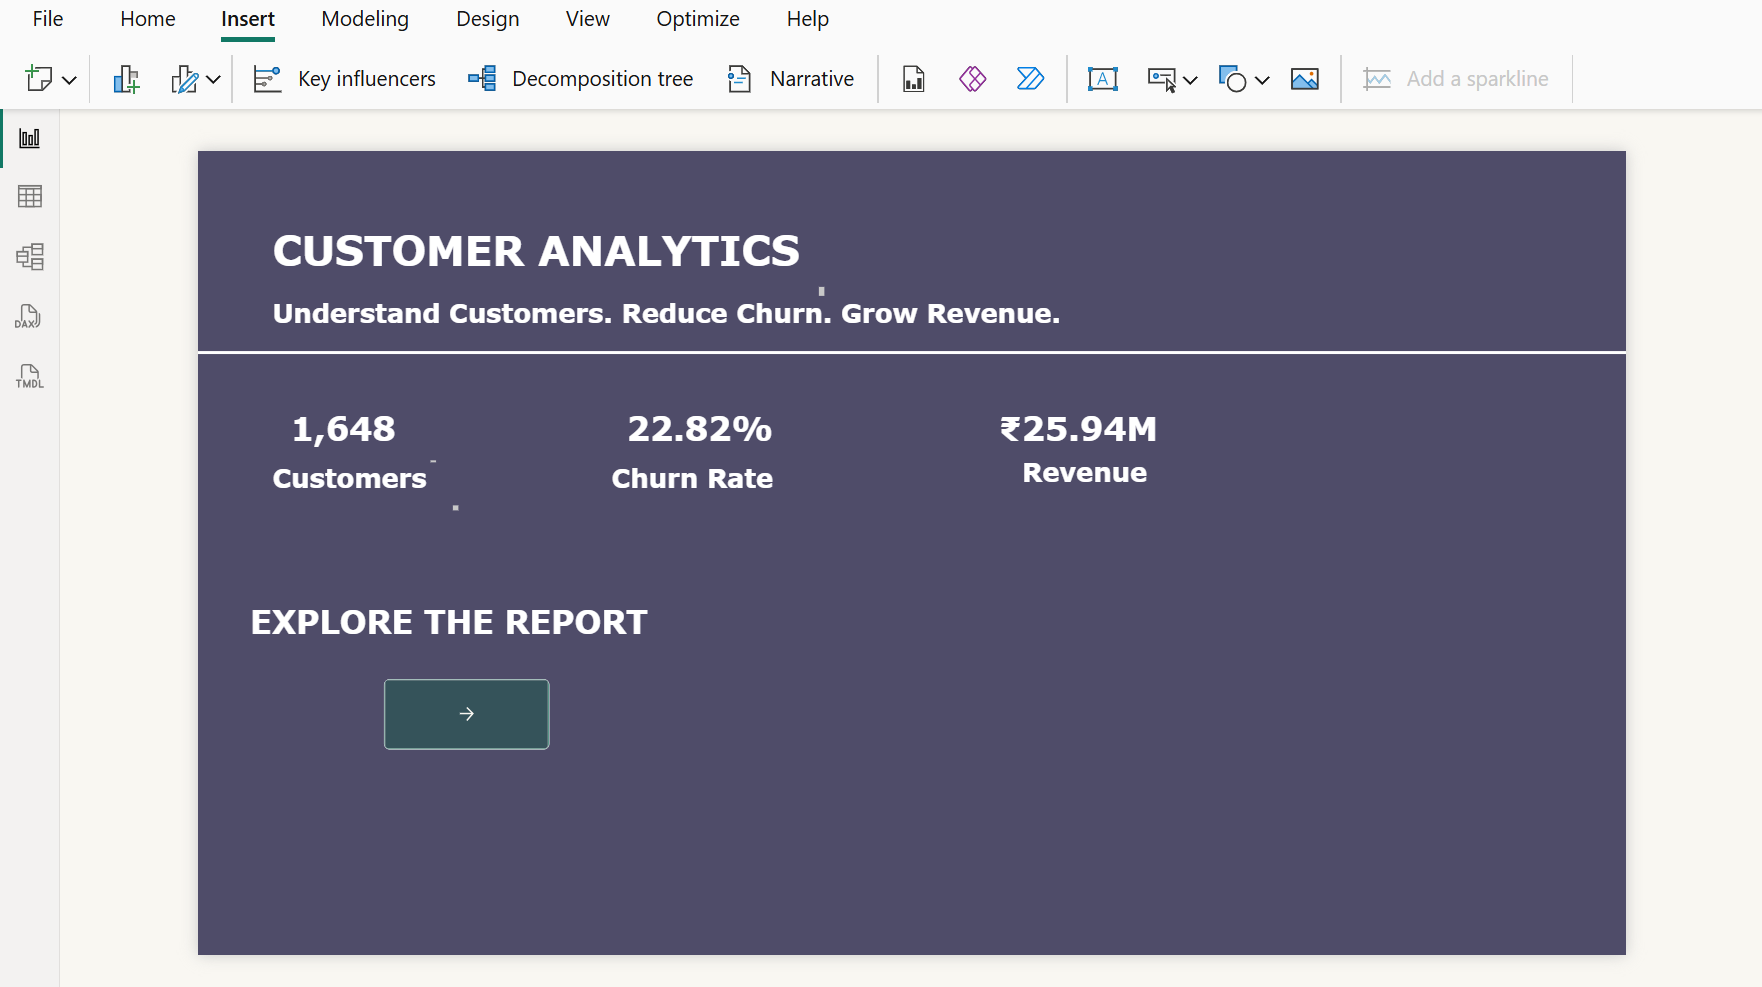

The dashboard page shown, as its layout file describes it:
{"tool":"powerbi","page":{"name":"Intro","canvas":[1920,1080],"ordinal":0},"visuals":[{"type":"textbox","title":"CUSTOMER ANALYTICS","box":[100,100,742.5,95],"z":0},{"type":"textbox","title":"Understand Customers. Reduce Churn. Grow Revenue.","box":[100,195,1200,57.5],"z":1000},{"type":"shape","box":[0,195,1920,150],"z":2000},{"type":"textbox","title":"1,648","box":[70,345,250,72.5],"z":3000},{"type":"textbox","title":"Customers","box":[100,417.5,250,65],"z":4000},{"type":"textbox","title":"22.82%","box":[575,345,250,87.5],"z":5000},{"type":"textbox","title":"Churn Rate","box":[555,417.5,250,80],"z":6000},{"type":"textbox","title":"Revenue","box":[1107.5,410,250,80],"z":7000},{"type":"textbox","title":"₹25.94M","box":[1075,345,250,90],"z":8000},{"type":"textbox","title":"EXPLORE THE REPORT","box":[70,605,610,65],"z":9000},{"type":"actionButton","box":[250,710,222.5,95],"z":9001}]}

Visuals, with their boxes on the page's 1920x1080 design canvas (x1, y1, x2, y2). These are canvas units, not pixel positions in the 1762x987 screenshot, which may show the page scaled, cropped or inside an application window:
"CUSTOMER ANALYTICS" textbox: (x1=100, y1=100, x2=842, y2=195)
"Understand Customers. Reduce Churn. Grow Revenue." textbox: (x1=100, y1=195, x2=1300, y2=252)
shape: (x1=0, y1=195, x2=1920, y2=345)
"1,648" textbox: (x1=70, y1=345, x2=320, y2=418)
"Customers" textbox: (x1=100, y1=418, x2=350, y2=482)
"22.82%" textbox: (x1=575, y1=345, x2=825, y2=432)
"Churn Rate" textbox: (x1=555, y1=418, x2=805, y2=498)
"Revenue" textbox: (x1=1108, y1=410, x2=1358, y2=490)
"₹25.94M" textbox: (x1=1075, y1=345, x2=1325, y2=435)
"EXPLORE THE REPORT" textbox: (x1=70, y1=605, x2=680, y2=670)
actionButton: (x1=250, y1=710, x2=472, y2=805)
